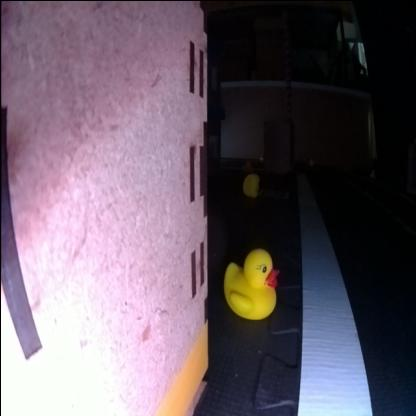Duckie: (224, 249, 278, 315), (243, 172, 259, 194), (308, 156, 314, 164), (258, 154, 263, 160)
